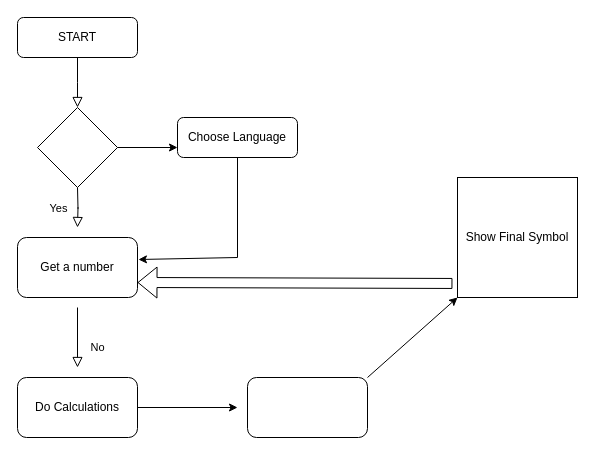
Image size: 595x455. Some labels were removed from this diagram. Here are the shapes that lost their labels. From the top down, the centre of each, then its label:
At pixel 77 147: "Check Language".
At pixel 307 407: "Show List of Symbols".
